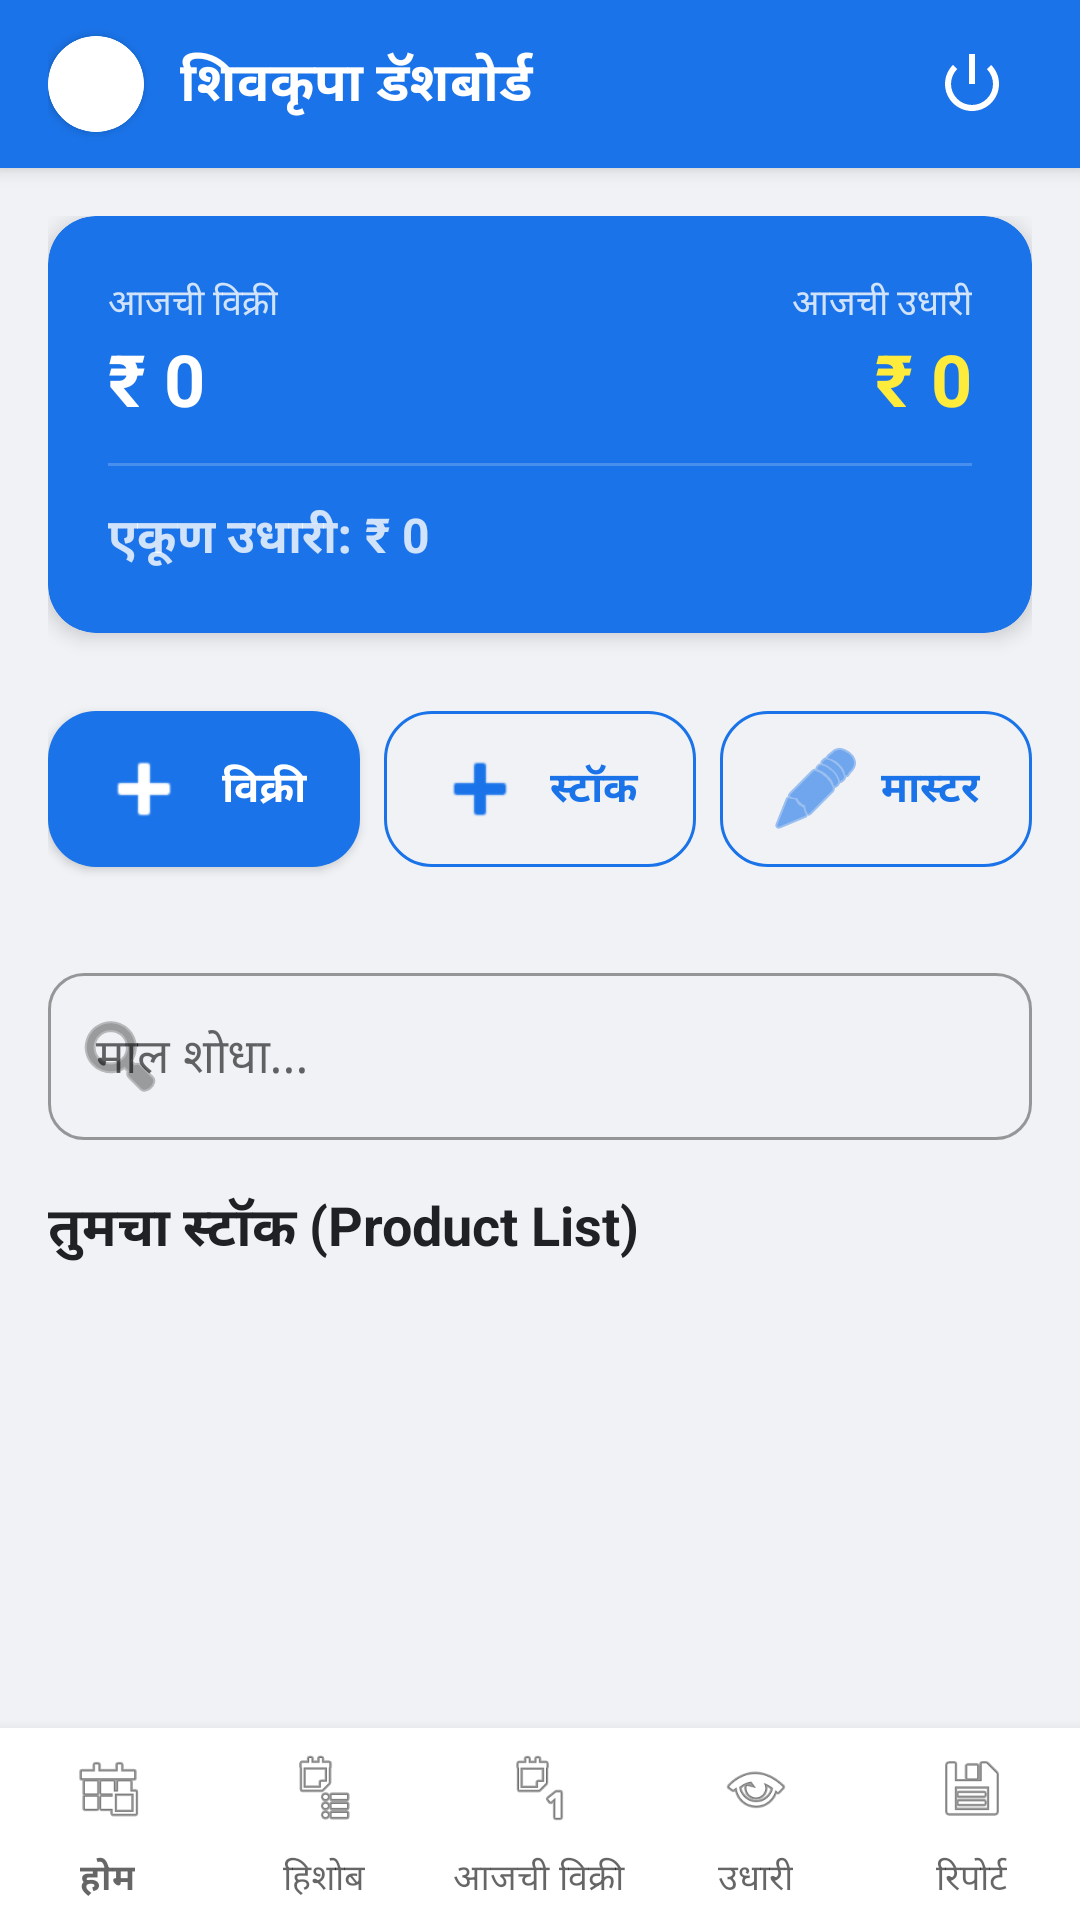

Where to tap for icons on this 1080px x 1920px app screen, as [x,y]:
lock power off: [972,82]
